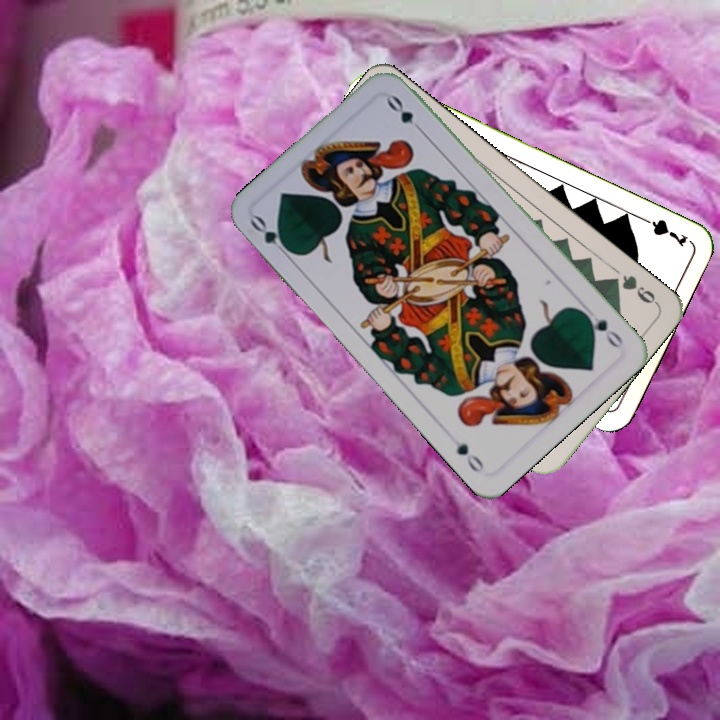G7: (635, 212, 691, 250)
G9: (605, 271, 661, 307)
GO: (246, 211, 296, 261), (578, 307, 626, 352)
